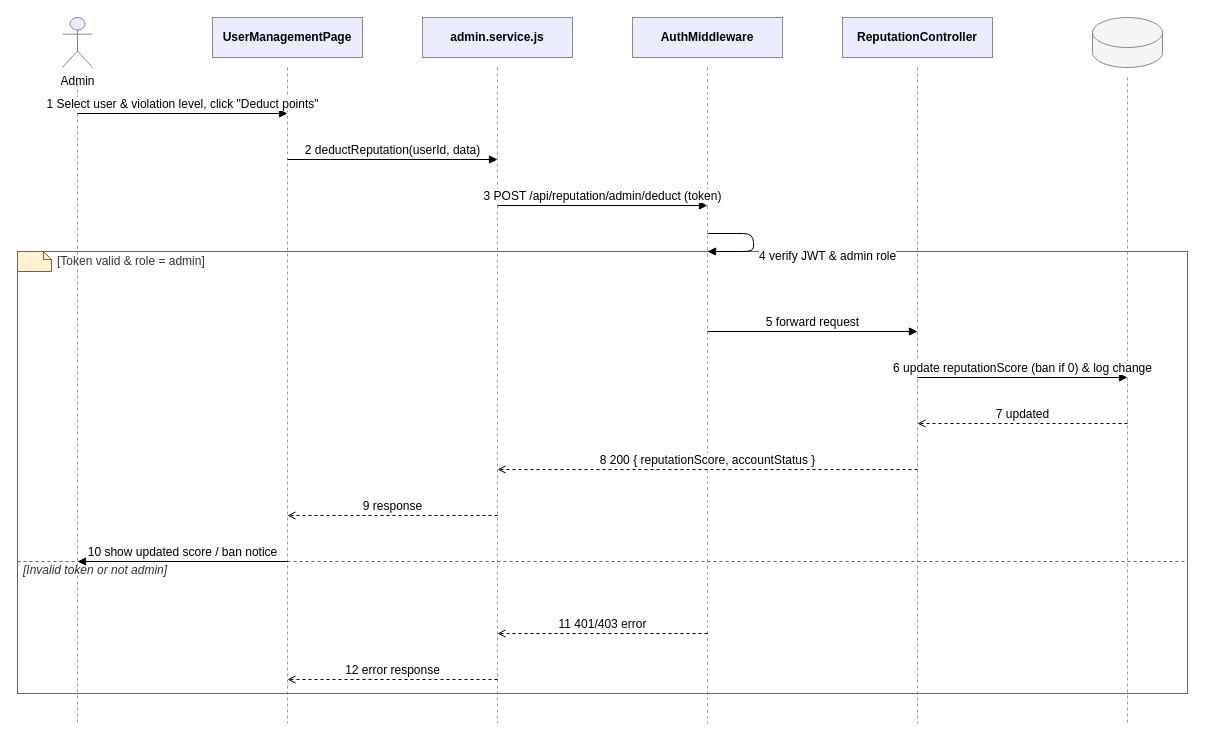
Some shapes in this 1206 by 742 pixel diagram are drawn without their labels. Each missing label, with the centre of its shape:
"alt" belongs at (34,261).
"MongoDB" belongs at (1127,42).
